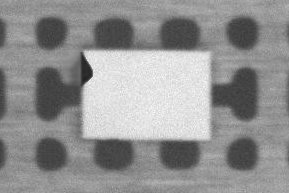DIE_BROKEN: (77, 50, 95, 87)
